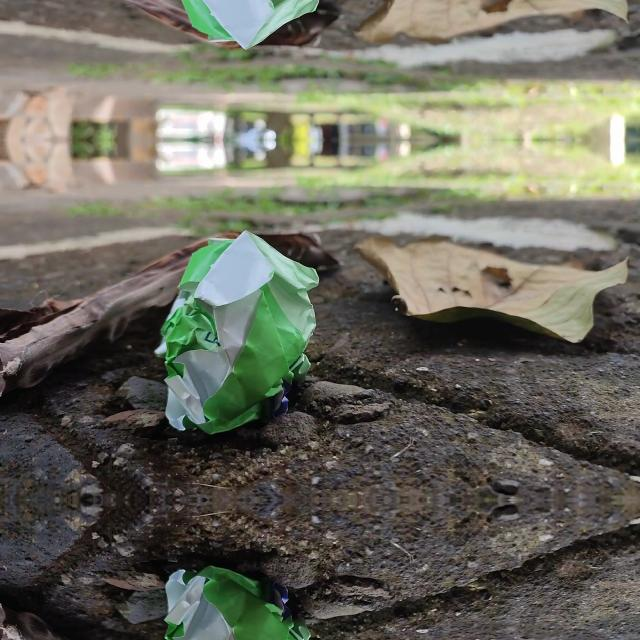paper: (155, 227, 319, 439), (155, 561, 319, 640), (155, 0, 319, 53)
